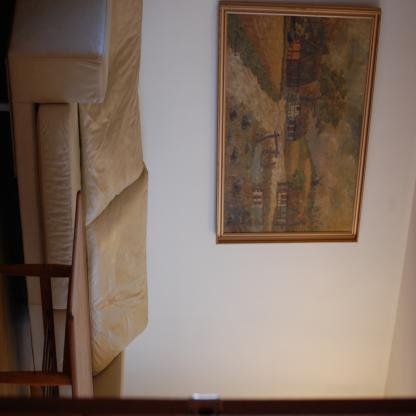picture frame: (160, 64, 341, 271)
